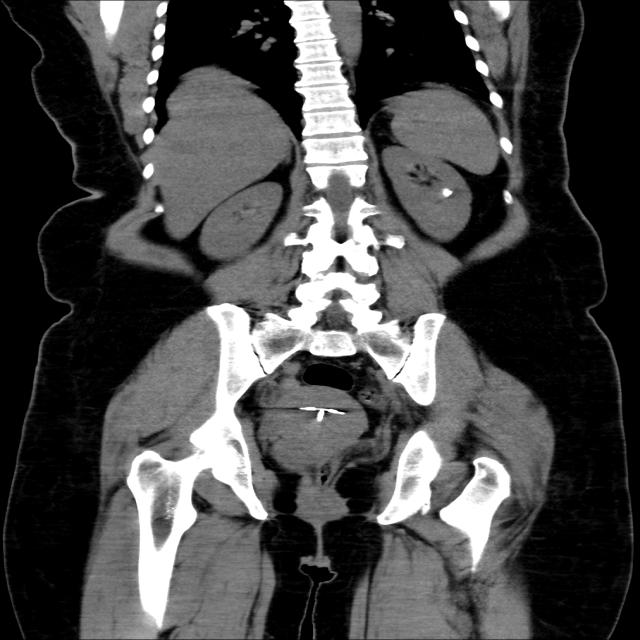kidneystone: (441, 188, 453, 198)
